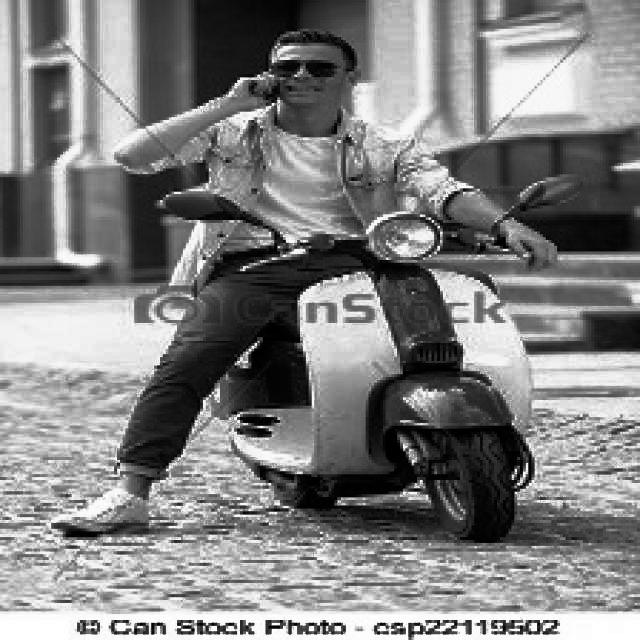Bike: (248, 228, 522, 548)
